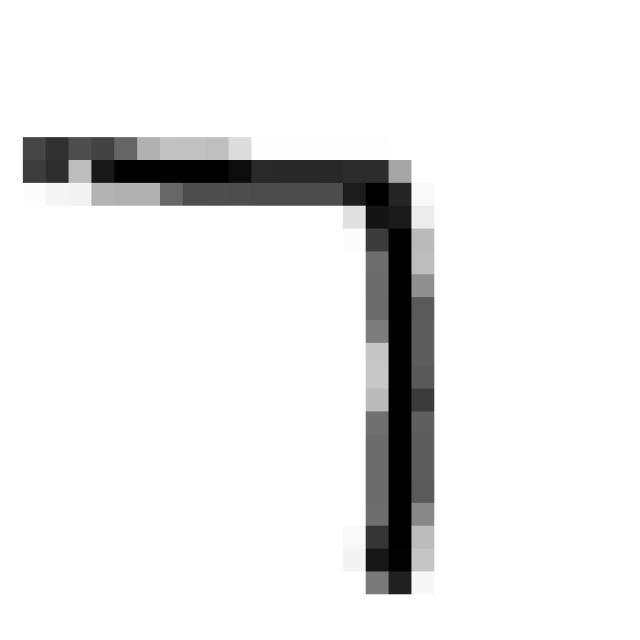6 -six-: (4, 114, 456, 618)
